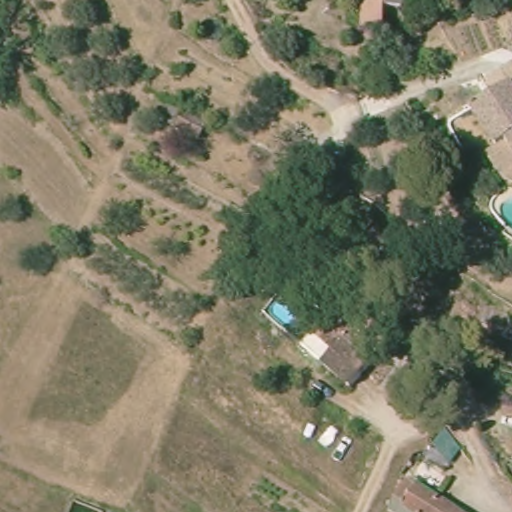pool: (262, 283, 322, 334), (497, 190, 512, 232)
